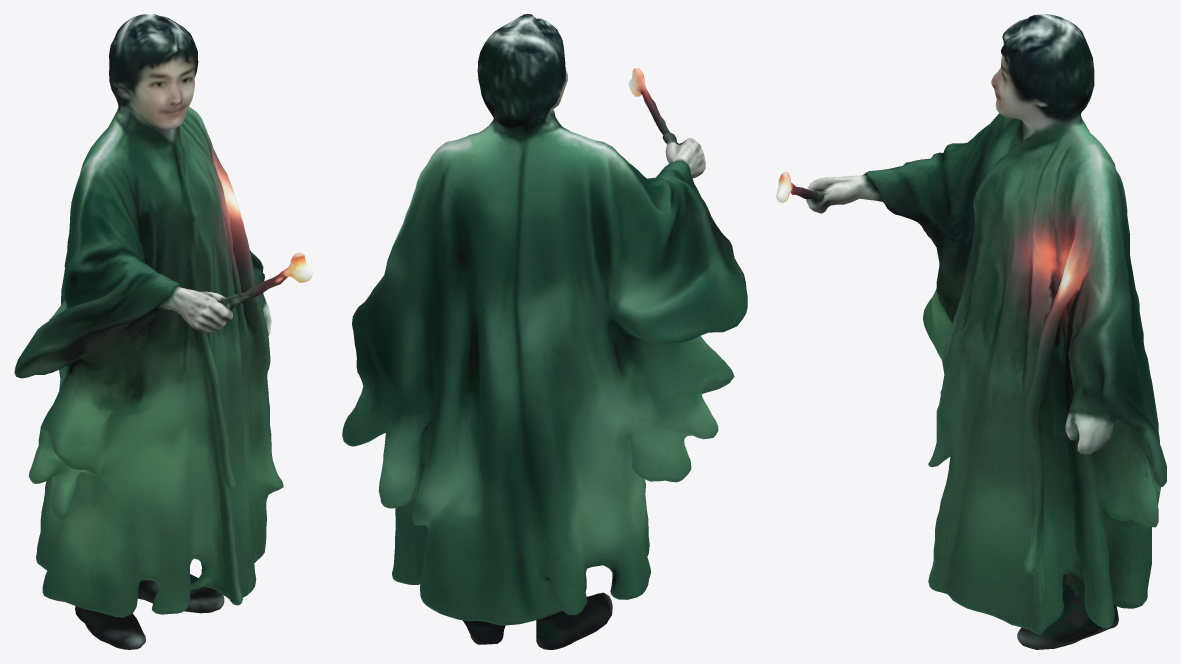
Rendered from granfinalboss.glb.
3 renders of one model, left to right at view 1: azimuth 30°, elevation 25°; view 2: azimuth 150°, elevation 25°; view 3: azimuth 270°, elevation 25°, orthographic.
Visible parts, largest first — view 1: char1; view 2: char1; view 3: char1.
Boxes of the visible parts, <box> form: char1: <box>14,14,313,649</box>; char1: <box>342,14,747,649</box>; char1: <box>776,14,1166,649</box>.
Size of the model in its own units: 94.25 by 170 by 99.49.
1 material, 1 textured.
